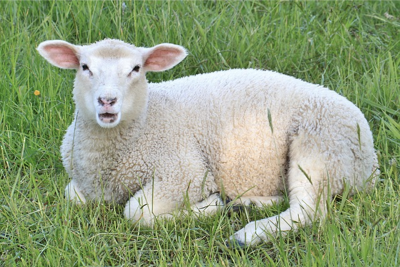koyun: (36, 38, 378, 245)
